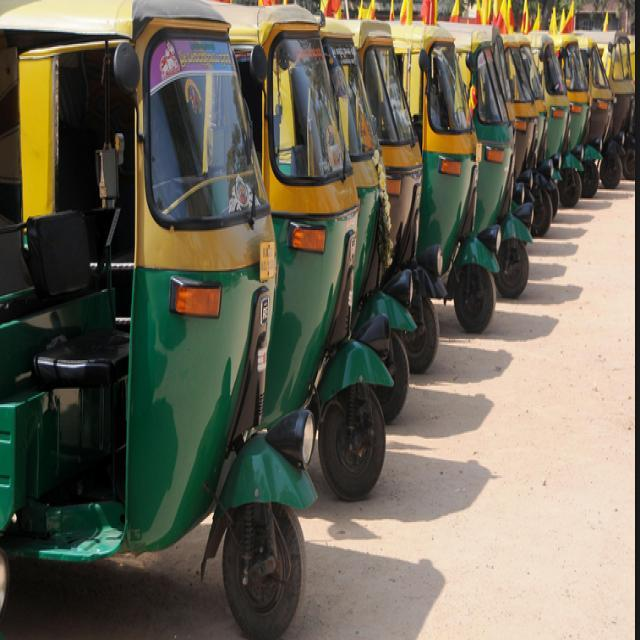auto_front: (9, 14, 320, 635), (223, 6, 394, 504), (314, 13, 418, 434), (397, 18, 503, 337)
